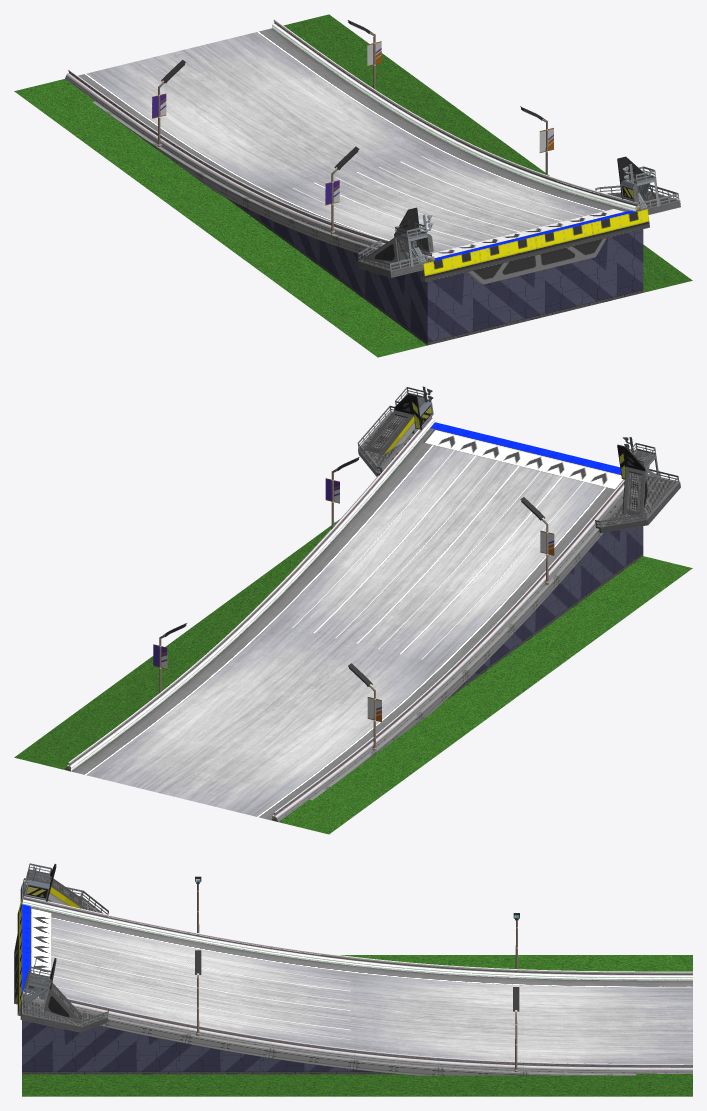
File: T15 - Jump.fbx
3 renders of one model, top to bottom at view 1: azimuth 30°, elevation 25°; view 2: azimuth 150°, elevation 25°; view 3: azimuth 270°, elevation 25°, orthographic. The views are drawn at different scales.
Parts seen in each view (by area): view 1: straight_road, standard_ground_grass, retainer1, barrier_elevated5, frontplate_jump, gate, slp_to_flt_lines_jump_down, standard_bridge3, pro_streetlight_banner_2, pro_streetlight_banner_3, pro_streetlight_banner, pro_streetlight_banner_1; view 2: straight_road, standard_ground_grass, barrier_elevated5, slp_to_flt_lines_jump_down, gate, retainer1, standard_bridge3; view 3: straight_road, standard_ground_grass, barrier_elevated5, retainer1, gate, slp_to_flt_lines_jump_down, standard_bridge3, frontplate_jump.
Boxes of the visible parts, <box> form: straight_road: <box>78,28,629,257</box>; standard_ground_grass: <box>14,14,692,357</box>; retainer1: <box>226,198,643,345</box>; barrier_elevated5: <box>65,19,641,262</box>; frontplate_jump: <box>420,209,649,284</box>; gate: <box>357,156,680,277</box>; slp_to_flt_lines_jump_down: <box>292,156,635,260</box>; standard_bridge3: <box>92,101,420,271</box>; pro_streetlight_banner_2: <box>325,146,359,234</box>; pro_streetlight_banner_3: <box>152,60,185,146</box>; pro_streetlight_banner: <box>347,20,381,89</box>; pro_streetlight_banner_1: <box>520,106,553,177</box>; straight_road: <box>71,428,623,820</box>; standard_ground_grass: <box>14,519,692,834</box>; barrier_elevated5: <box>65,416,624,821</box>; slp_to_flt_lines_jump_down: <box>292,422,623,659</box>; gate: <box>357,386,680,532</box>; retainer1: <box>445,526,643,700</box>; standard_bridge3: <box>232,475,603,800</box>; straight_road: <box>30,906,692,1066</box>; standard_ground_grass: <box>22,955,692,1096</box>; barrier_elevated5: <box>22,896,692,1073</box>; retainer1: <box>22,1020,398,1074</box>; gate: <box>20,863,108,1032</box>; slp_to_flt_lines_jump_down: <box>21,904,350,1039</box>; standard_bridge3: <box>14,953,636,1075</box>; frontplate_jump: <box>14,899,21,1015</box>.
Bounding box in the file's own units: 6400 × 2582 × 12950.
